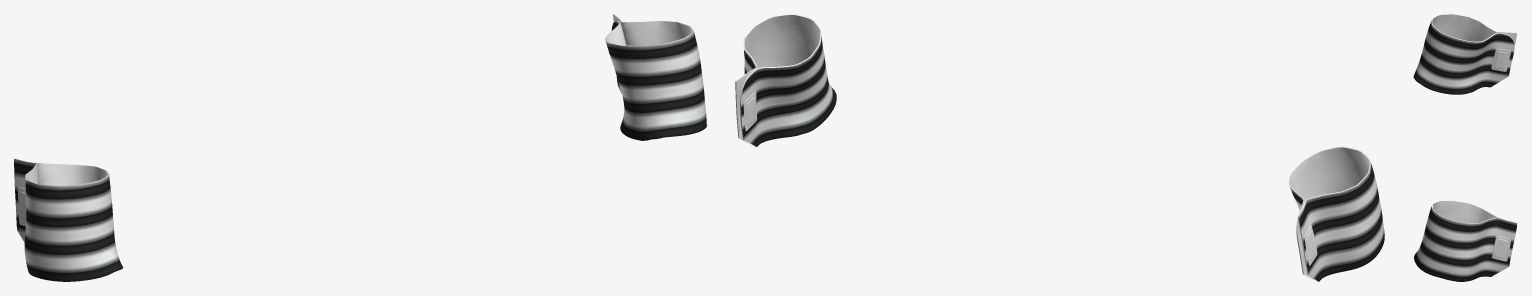
Rendered from French_Rounded.glb.
3 renders of one model, left to right at view 1: azimuth 30°, elevation 25°; view 2: azimuth 150°, elevation 25°; view 3: azimuth 270°, elevation 25°, orthographic. The views are drawn at different scales.
Visible parts, largest first — view 1: Pattern_2052456_Node, Pattern_2052459_Node; view 2: Pattern_2052459_Node, Pattern_2052456_Node; view 3: Pattern_2052459_Node, Pattern_2052456_Node, metal_Node.006, metal_Node, metal_Node.005, metal_Node.003.
Boxes of the visible parts, x1,y1,x2,y2 form: Pattern_2052456_Node: [14, 158, 123, 281]; Pattern_2052459_Node: [605, 14, 706, 140]; Pattern_2052459_Node: [735, 14, 836, 146]; Pattern_2052456_Node: [1288, 146, 1384, 281]; Pattern_2052459_Node: [1414, 200, 1517, 281]; Pattern_2052456_Node: [1413, 14, 1516, 94]; metal_Node.006: [1492, 235, 1511, 261]; metal_Node: [1491, 48, 1510, 71]; metal_Node.005: [1495, 239, 1507, 258]; metal_Node.003: [1494, 51, 1507, 69].
Bounding box in the file's own units: 59.5 × 9.29 × 12.48.
30 materials, 2 textured.
